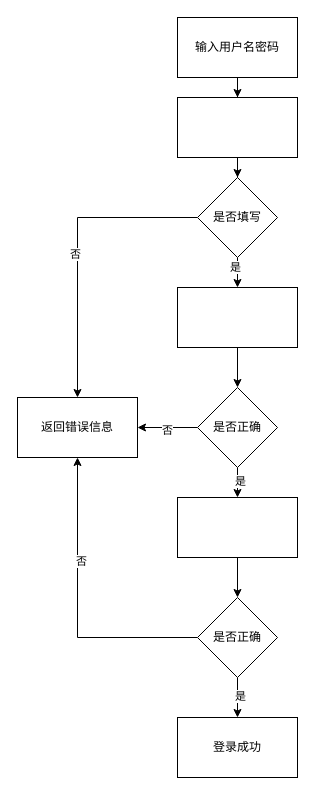
Some shapes in this 315 by 795 pixel diagram are drawn without their labels. Each missing label, with the centre of its shape:
"加密密码验证" goes at (237,527).
"验证必填项" goes at (237,127).
"验证用户名" goes at (237,317).
